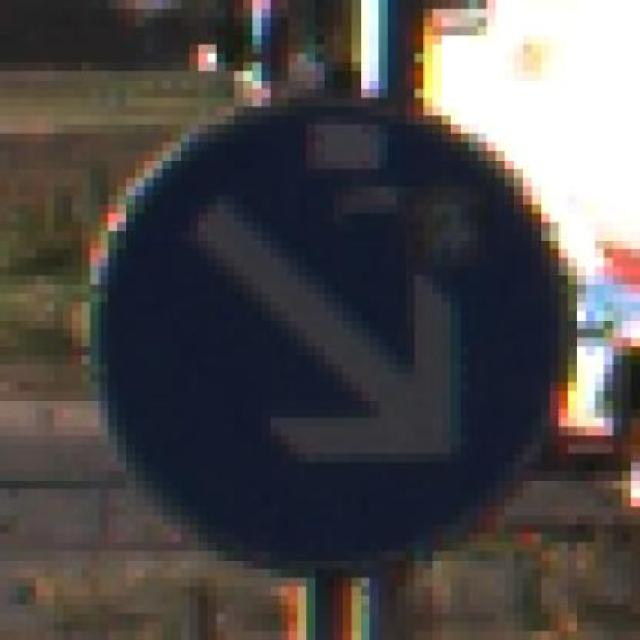Keep-Right: (54, 79, 595, 587)
